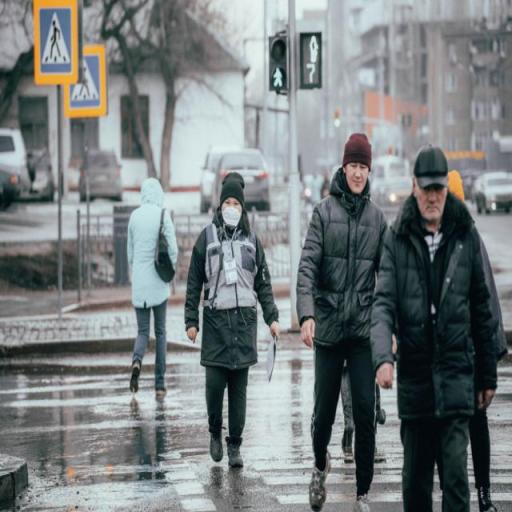person: (373, 126, 501, 512), (297, 135, 392, 512), (188, 171, 283, 469), (128, 177, 179, 398)
